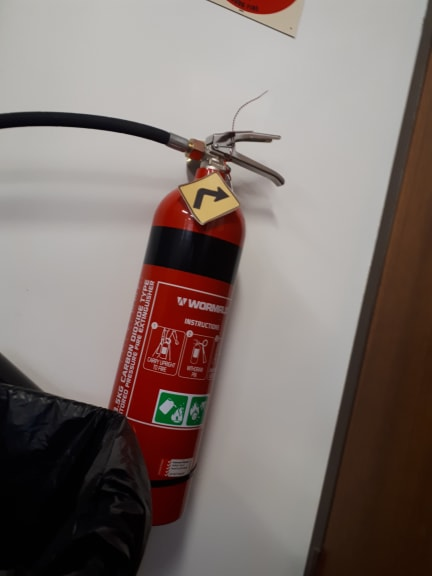right: (170, 169, 249, 232), (195, 175, 236, 208), (200, 180, 231, 204)
